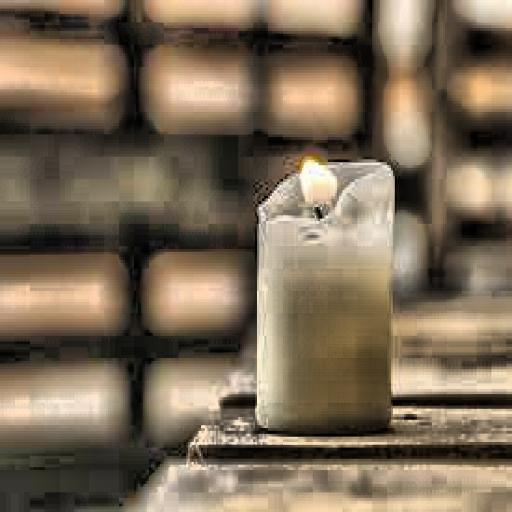fire: (290, 146, 341, 218)
